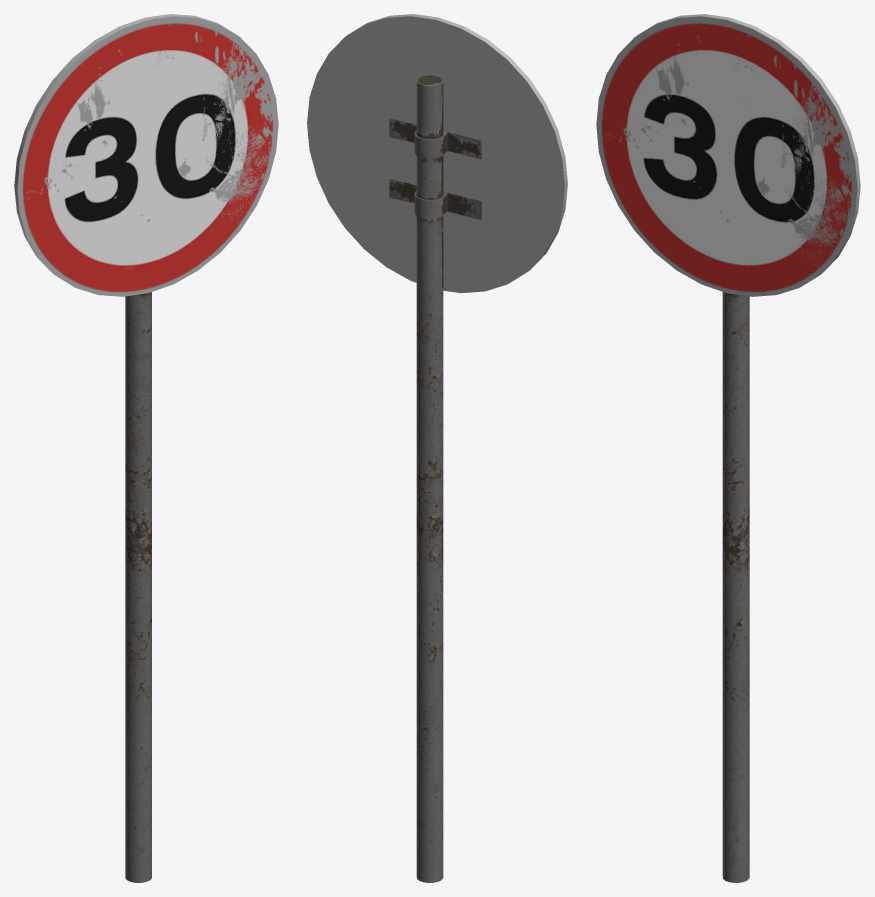
File: sign_speed_limit.glb
3 renders of one model, left to right at view 1: azimuth 30°, elevation 25°; view 2: azimuth 150°, elevation 25°; view 3: azimuth 330°, elevation 25°, orthographic.
Parts seen in each view (by area): view 1: Speed limit sign; view 2: Speed limit sign; view 3: Speed limit sign.
Part boxes in pixels (box(x1,y1,x2,y2)): Speed limit sign: box(14, 14, 278, 882); Speed limit sign: box(307, 14, 567, 882); Speed limit sign: box(596, 14, 860, 882).
Size of the model in its own units: 0.685 by 2.17 by 0.0775.
1 material, 1 textured.
